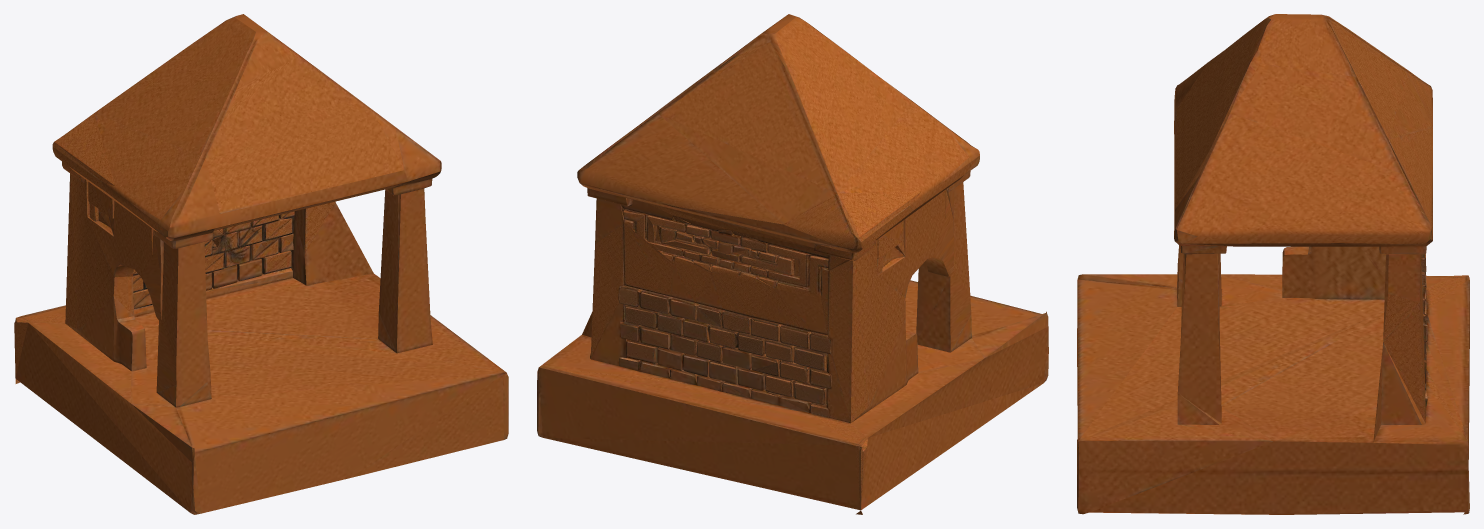
File: shelter.glb
3 views of the same model, side by side, from view 1: azimuth 30°, elevation 25°; view 2: azimuth 150°, elevation 25°; view 3: azimuth 270°, elevation 25° (orthographic). The views are drawn at different scales.
Visible parts, largest first — view 1: mesh_node; view 2: mesh_node; view 3: mesh_node.
Boxes of the visible parts, x1,y1,x2,y2 form: mesh_node: (14,14,508,514); mesh_node: (537,14,1048,514); mesh_node: (1077,14,1469,514).
Bounding box in the file's own units: 1.66 × 1.9 × 1.63.
1 material, 1 textured.
